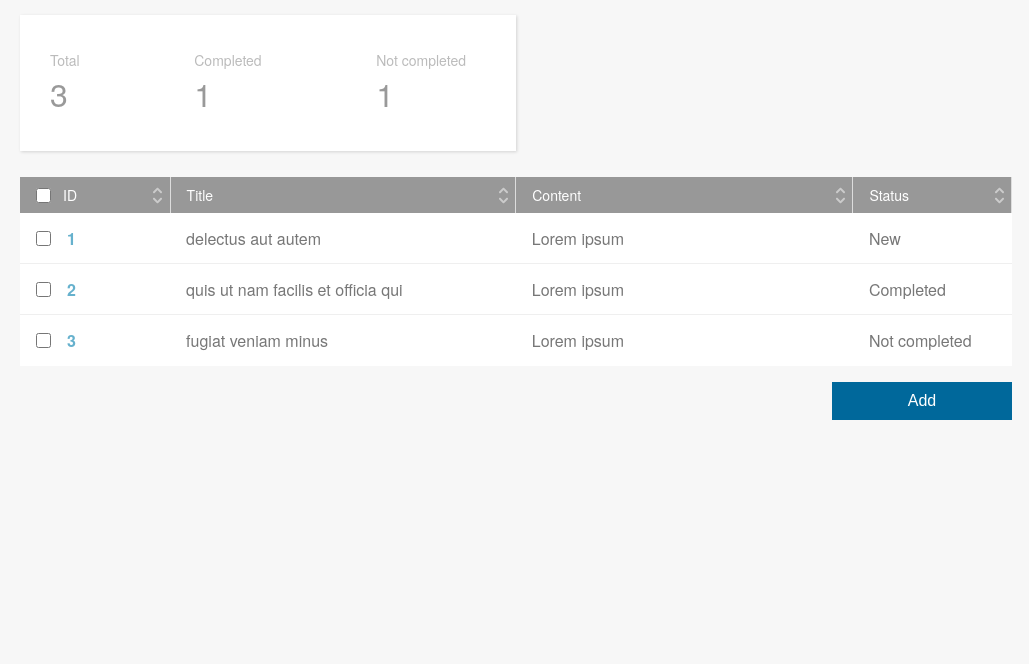
Test case: Notes handling › creates new todo
This screenshot has width=1029, height=664.
Expected: the element with class "todos-table__button-add" is enabled
Click the button with class "todos-table__button-add".
click(922, 401)  # box top-left (832, 382), bottom-right (1012, 420)
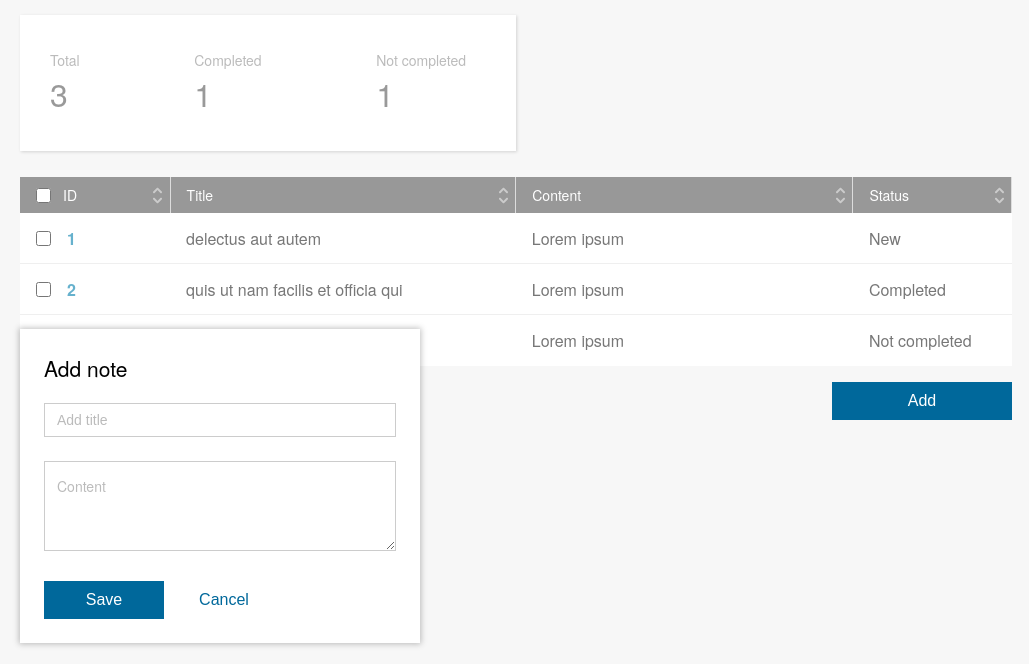
Type "New todo" into the field with placeholder "Add title".
click(220, 420); type("New todo")  # box top-left (44, 403), bottom-right (396, 437)
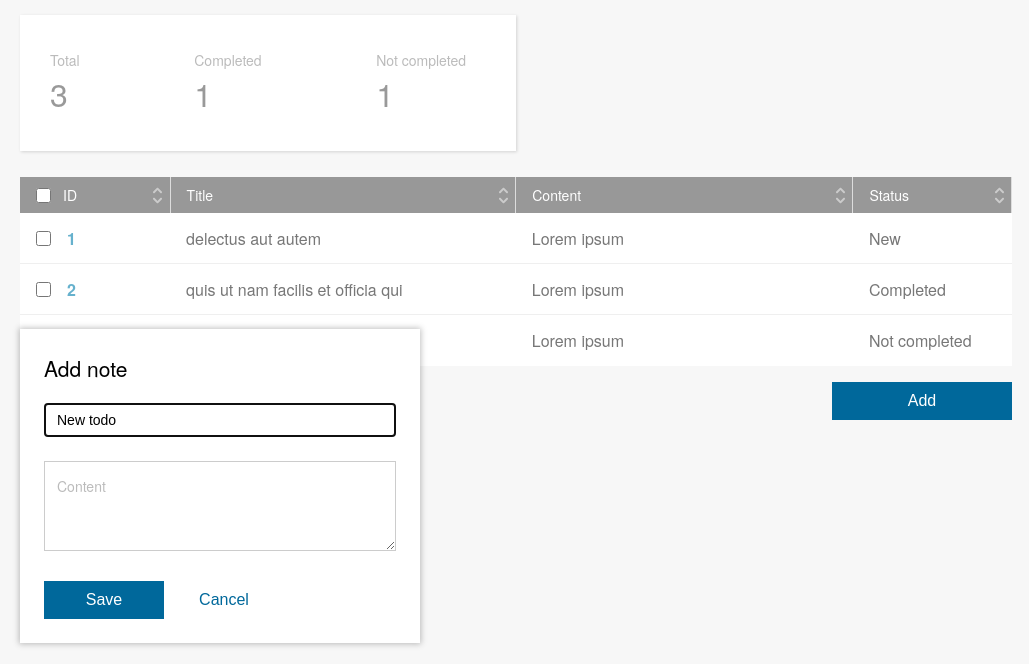
Type "Lorem ipsum" into the text box with placeholder "Content".
click(220, 506); type("Lorem ipsum")  # box top-left (44, 461), bottom-right (396, 551)
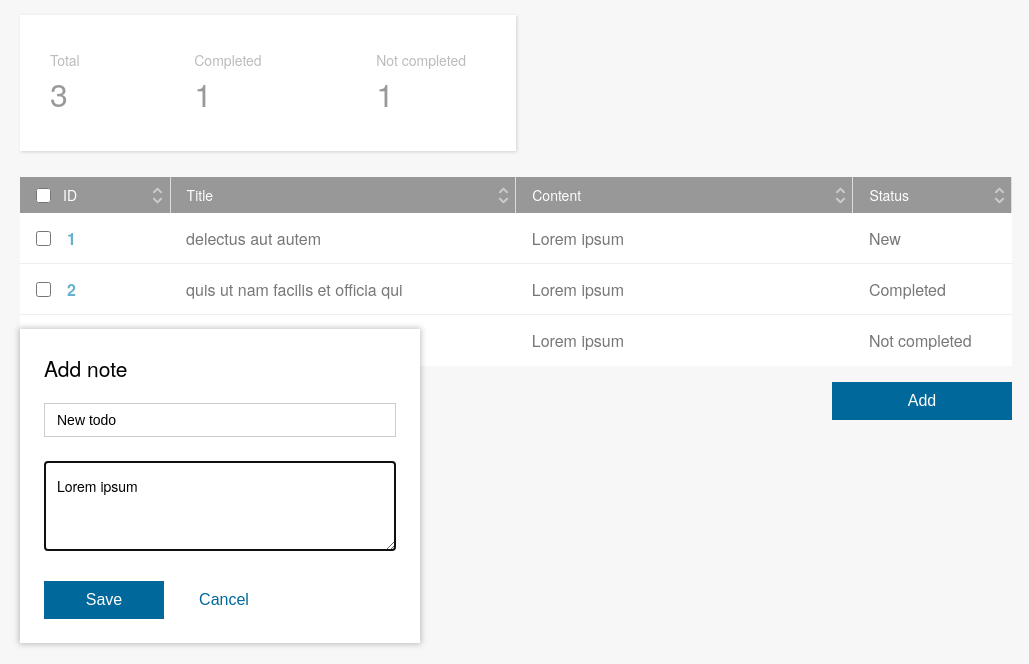
Click the button "Save".
click(104, 600)  # box top-left (44, 581), bottom-right (164, 619)
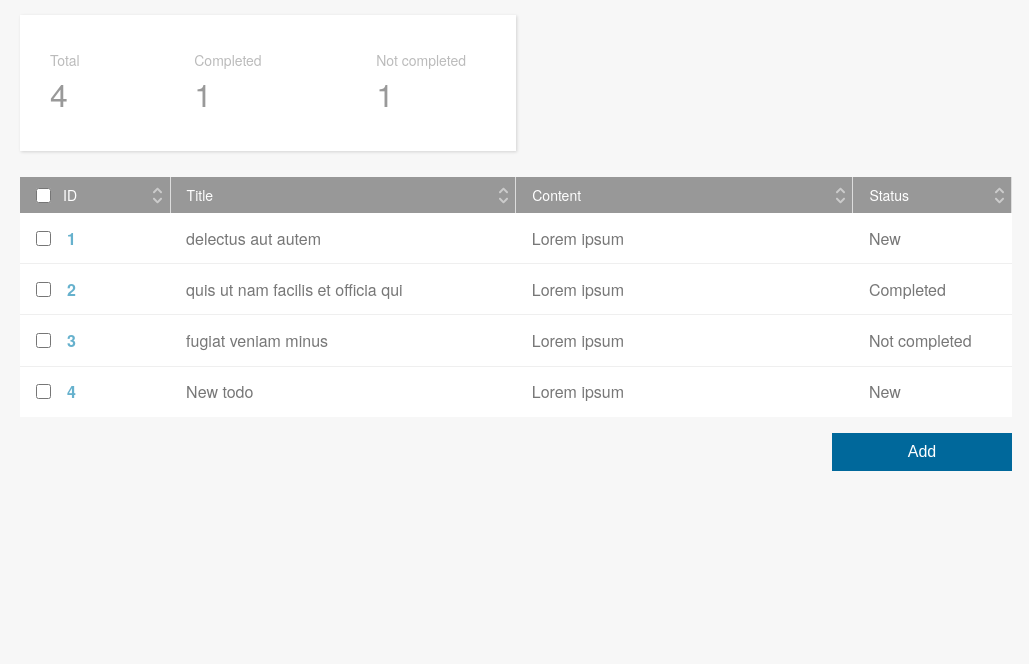
Expected: the text "Lorem ipsum" in the row of "delectus aut autem" is shown, top-left (532, 227), bottom-right (624, 250)
Expected: the text "New todo" is shown, top-left (170, 366), bottom-right (516, 417)
